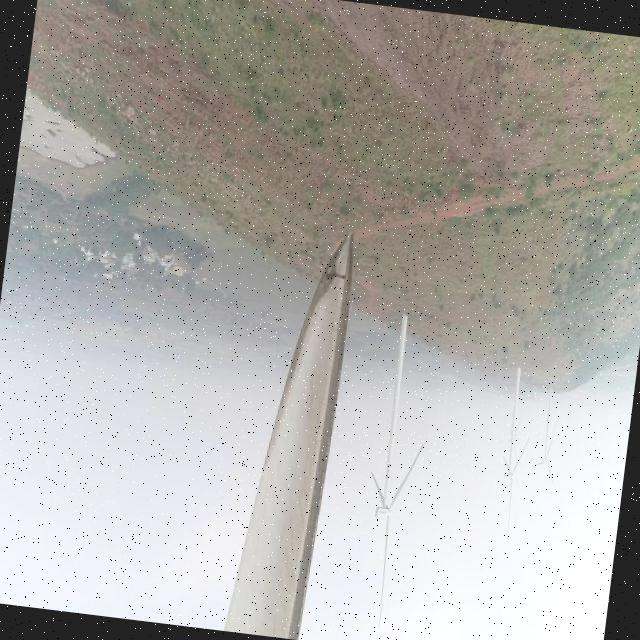Dirt: (261, 231, 355, 640)
Oil LEAKAGE: (324, 268, 349, 282)
